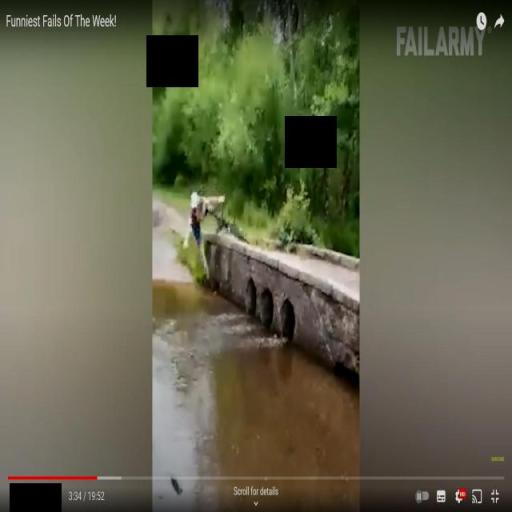Fall: (180, 187, 227, 282)
